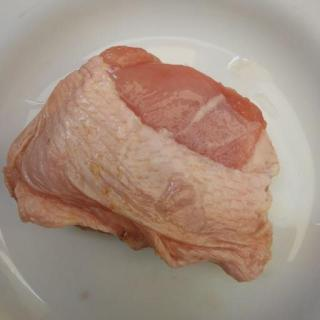Ayam: (2, 45, 282, 284)
